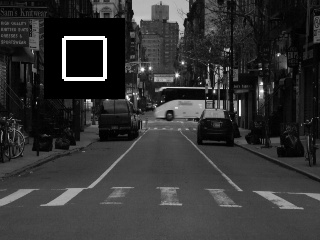square: (44, 18, 125, 98)
